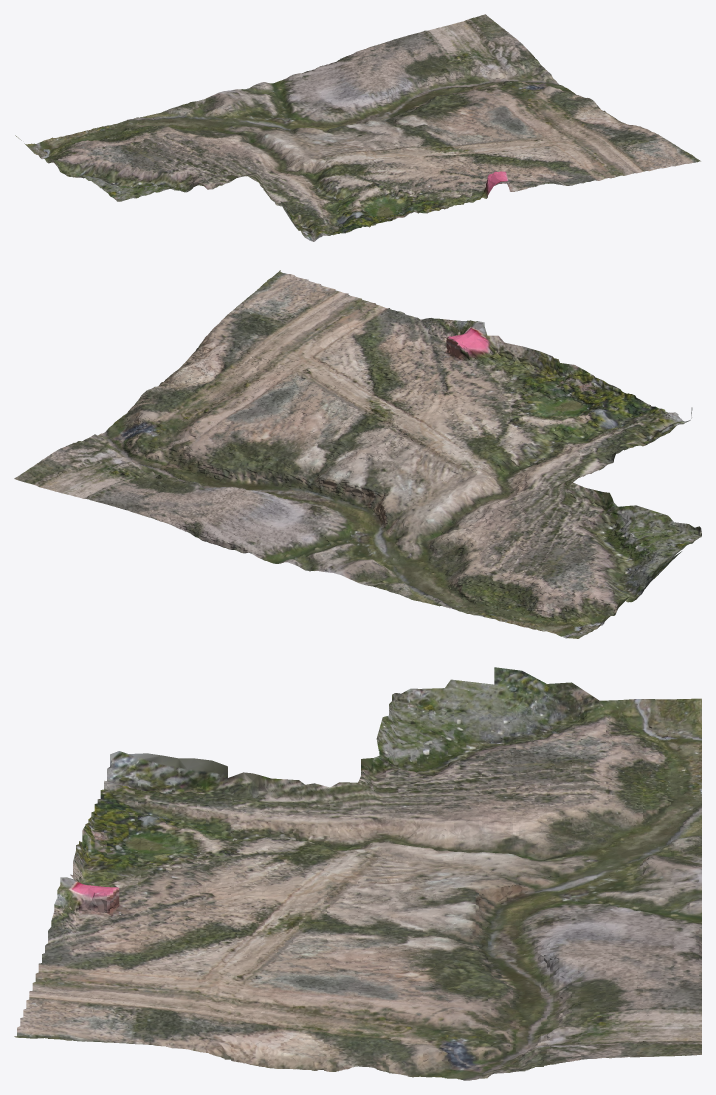
The model's file is MODELO1.GLB.
3 renders of one model, top to bottom at view 1: azimuth 30°, elevation 25°; view 2: azimuth 150°, elevation 25°; view 3: azimuth 270°, elevation 25°, orthographic. The views are drawn at different scales.
Size of the model in its own units: 142 by 12.5 by 111.
Materials: 1 (1 with a texture image).
